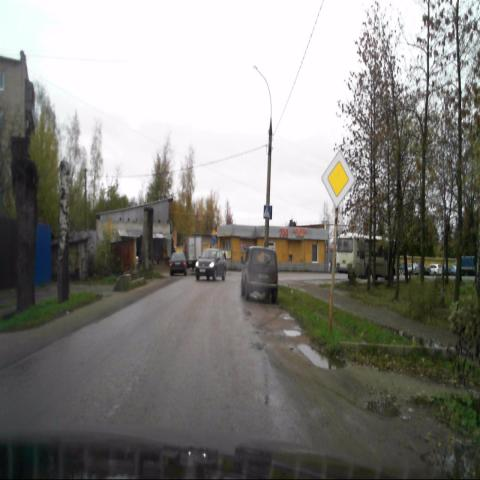2_1: (321, 149, 355, 208)
5_19_1: (263, 205, 271, 219)
